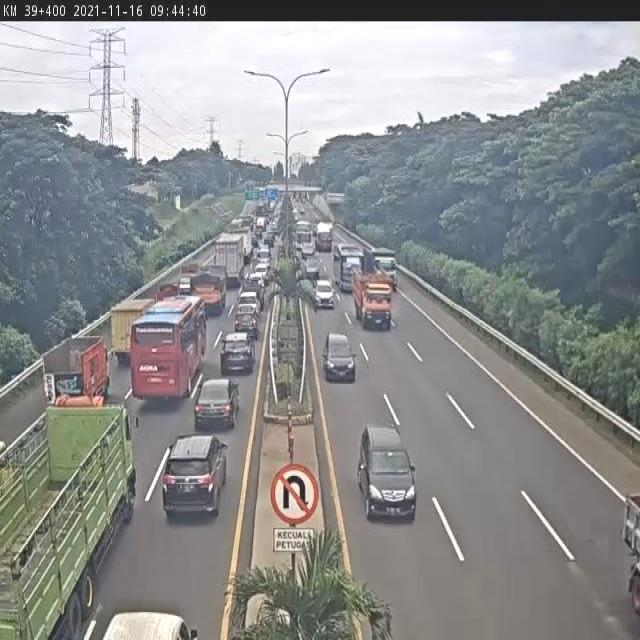Bus: (129, 291, 210, 400), (333, 242, 366, 293)
Car: (356, 425, 417, 521), (161, 435, 230, 518), (193, 376, 240, 431), (322, 332, 357, 384), (219, 332, 257, 377), (233, 304, 260, 338), (314, 279, 335, 309), (244, 280, 265, 310), (238, 291, 262, 317), (303, 255, 323, 281), (253, 262, 270, 288), (300, 241, 316, 258), (264, 231, 274, 247)
Truck: (0, 392, 140, 640), (42, 332, 110, 403), (110, 296, 155, 364), (351, 268, 393, 330), (190, 263, 230, 317), (212, 229, 246, 289), (364, 243, 399, 293), (230, 223, 252, 260), (177, 260, 200, 292), (315, 221, 334, 254), (294, 218, 314, 249)
Van: (255, 242, 273, 270)
